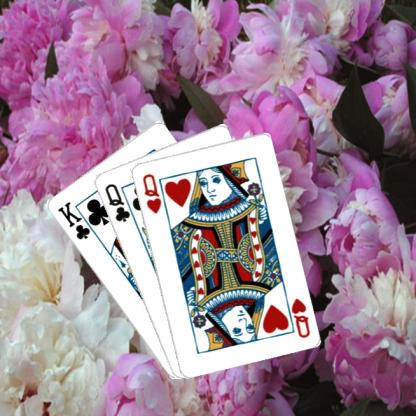KC: (54, 199, 99, 241)
QC: (102, 181, 131, 223)
QH: (281, 292, 311, 339), (140, 170, 162, 215)
